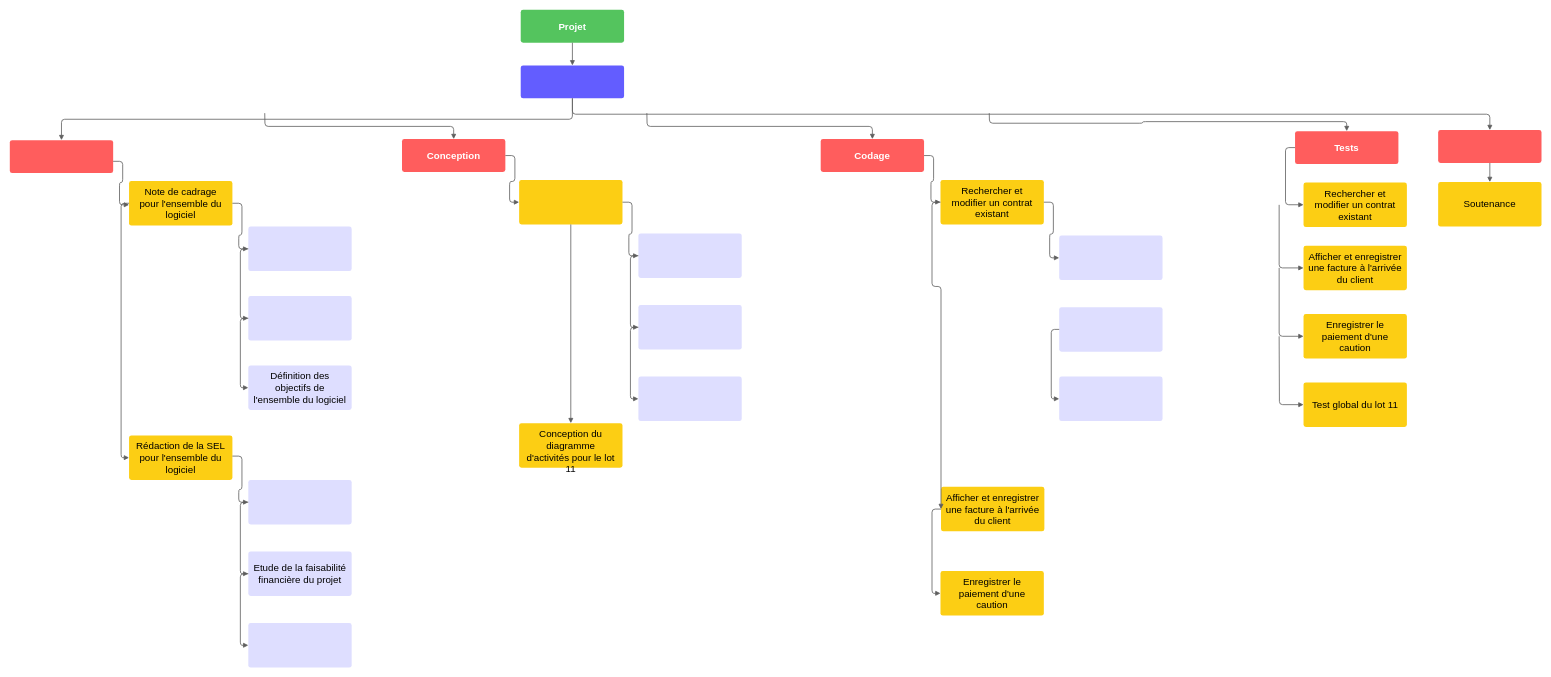
This 1551x677 diagram has some shape labels left out. Here are the shapes that lost their labels. From the top down, the box of each, then its label:
(520, 65, 624, 99): Développement des fonctions
(9, 139, 114, 173): Analyse
(1437, 129, 1542, 163): Présentation au client
(518, 179, 623, 225): Conception diagramme UML pour l'enseble du logiciel
(247, 226, 352, 271): Définition des buts de l'ensemble du logiciel
(247, 295, 352, 341): Définition des enjeux de l'ensemble du logiciel
(247, 479, 352, 525): Etude de la faisabilité technique du projet
(247, 622, 352, 668): Etude de la faisabilité calendaire du projet
